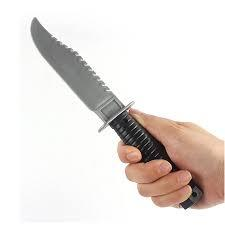Knife: (31, 17, 134, 130), (118, 107, 225, 210)
